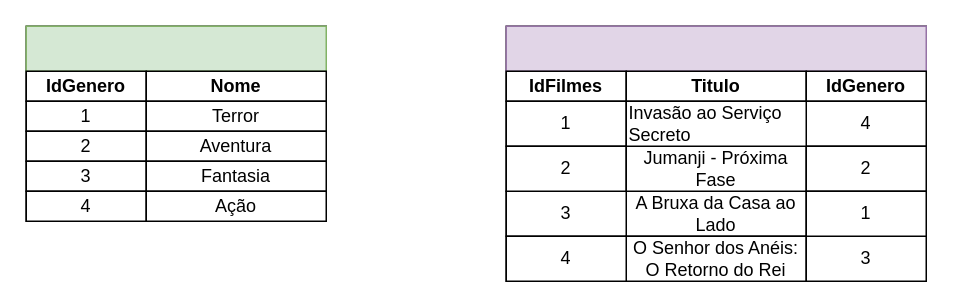
Image size: 953x308. Some labels were removed from this diagram. The shapes that lost their labels are listed below. From the top down, each one's centre as x and y in pixels, then its label:
At pixel 175 48: "Genero".
At pixel 715 48: "Filme".
